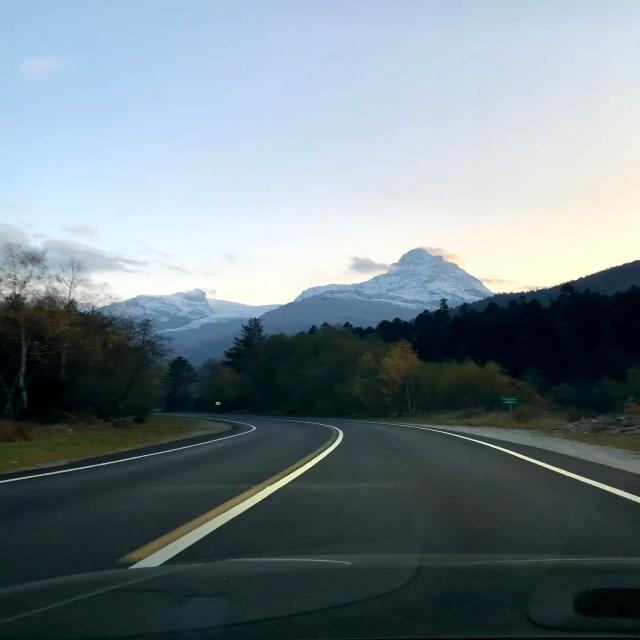lane: (131, 426, 344, 568), (118, 441, 331, 564), (398, 425, 640, 502), (1, 420, 256, 483)
road: (3, 416, 638, 640)
